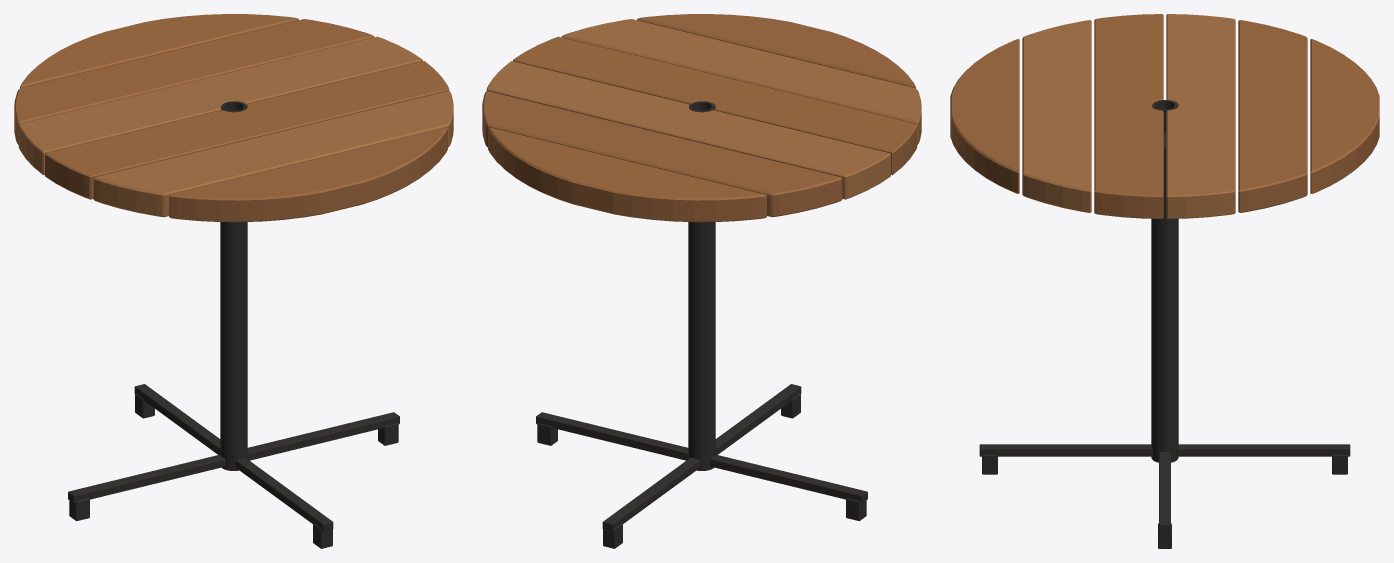
File: cafe_table.glb
The picture shows the model from 3 angles, left to right: view 1: azimuth 30°, elevation 25°; view 2: azimuth 150°, elevation 25°; view 3: azimuth 270°, elevation 25°; orthographic projection.
Visible parts, largest first — view 1: body; view 2: body; view 3: body.
Boxes of the visible parts, bbox=[...] form: body: bbox=[14, 14, 453, 548]; body: bbox=[482, 14, 921, 548]; body: bbox=[950, 14, 1379, 548].
Bounding box in the file's own units: 0.7995 × 0.75 × 0.795.
